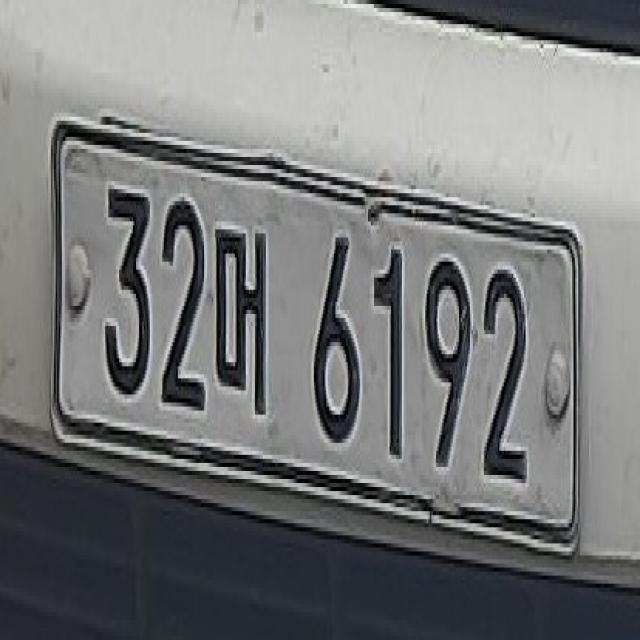1: (371, 237, 410, 463)
2: (481, 262, 532, 491), (157, 189, 205, 423)
3: (98, 177, 154, 407)
6: (312, 233, 363, 451)
9: (422, 242, 470, 479)
license_plate: (54, 129, 578, 539)
meo: (212, 213, 269, 427)
